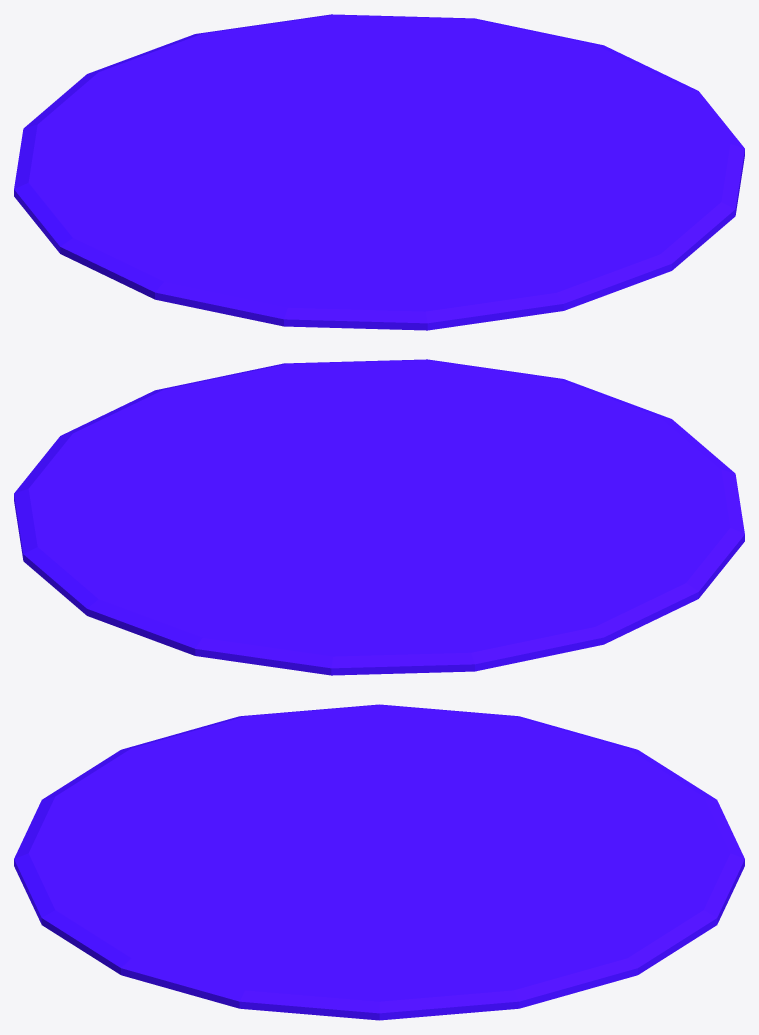
Rendered from BasePlatform.005.glb.
3 renders of one model, top to bottom at view 1: azimuth 30°, elevation 25°; view 2: azimuth 150°, elevation 25°; view 3: azimuth 270°, elevation 25°, orthographic.
Visible parts, largest first — view 1: BasePlatform.005; view 2: BasePlatform.005; view 3: BasePlatform.005.
Boxes of the visible parts, left/top/right/bottom form: BasePlatform.005: left=14, top=14, right=744, bottom=330; BasePlatform.005: left=14, top=359, right=744, bottom=675; BasePlatform.005: left=14, top=704, right=744, bottom=1020.
Size of what is drawn, in the model's own units: 4.06 by 0.0778 by 4.06.
Materials: 1 (1 with a texture image).
